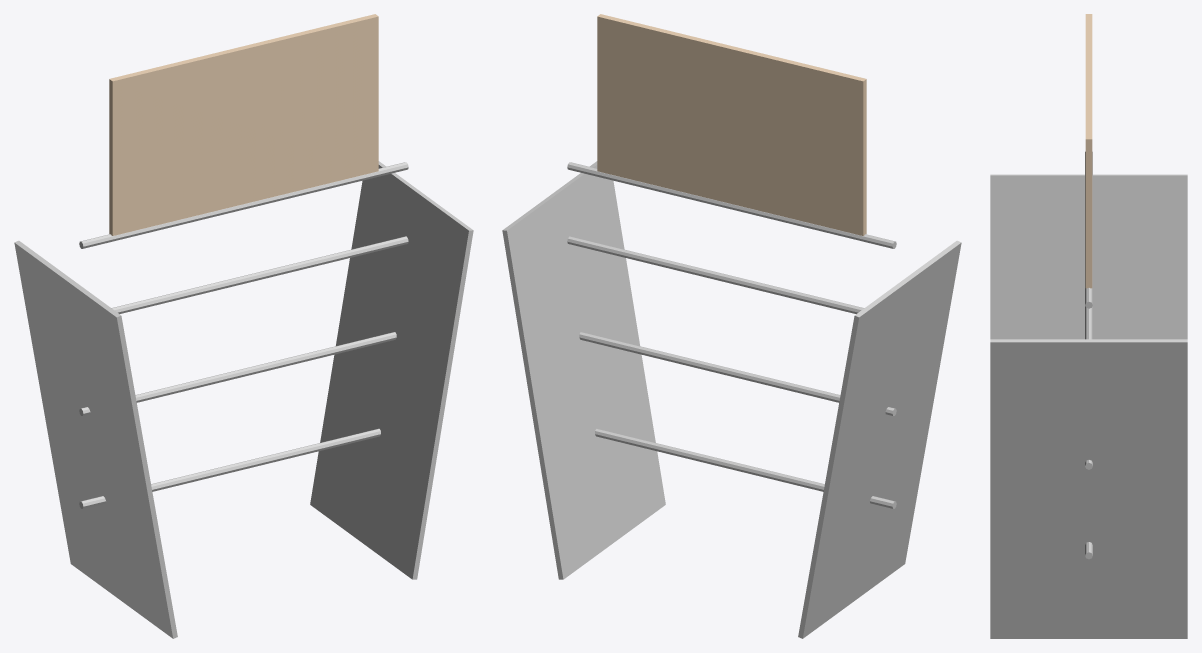
Rendered from drying-rack.glb.
3 views of the same model, side by side, from view 1: azimuth 30°, elevation 25°; view 2: azimuth 150°, elevation 25°; view 3: azimuth 270°, elevation 25° (orthographic). The views are drawn at different scales.
Visible parts, largest first — view 1: DryingRack_Towel, DryingRack_SidePanel.001, DryingRack_SidePanel, DryingRack_Bar.002, DryingRack_Bar.001, DryingRack_Bar, DryingRack_Bar.003; view 2: DryingRack_Towel, DryingRack_SidePanel.001, DryingRack_SidePanel, DryingRack_Bar.002, DryingRack_Bar.001, DryingRack_Bar, DryingRack_Bar.003; view 3: DryingRack_SidePanel.001, DryingRack_SidePanel, DryingRack_Towel, DryingRack_Bar.003.
Part boxes in pixels (bbox=[...]): DryingRack_Towel: bbox=[109, 14, 378, 235]; DryingRack_SidePanel.001: bbox=[310, 161, 473, 579]; DryingRack_SidePanel: bbox=[14, 240, 177, 638]; DryingRack_Bar.002: bbox=[111, 236, 408, 313]; DryingRack_Bar.001: bbox=[79, 332, 396, 415]; DryingRack_Bar: bbox=[79, 428, 380, 508]; DryingRack_Bar.003: bbox=[79, 162, 408, 248]; DryingRack_Towel: bbox=[597, 14, 866, 235]; DryingRack_SidePanel.001: bbox=[502, 161, 665, 579]; DryingRack_SidePanel: bbox=[798, 240, 961, 638]; DryingRack_Bar.002: bbox=[567, 236, 864, 313]; DryingRack_Bar.001: bbox=[579, 332, 896, 415]; DryingRack_Bar: bbox=[595, 428, 896, 508]; DryingRack_Bar.003: bbox=[567, 162, 896, 248]; DryingRack_SidePanel.001: bbox=[990, 339, 1187, 638]; DryingRack_SidePanel: bbox=[990, 174, 1187, 339]; DryingRack_Towel: bbox=[1085, 14, 1092, 288]; DryingRack_Bar.003: bbox=[1085, 151, 1092, 308].
Bounding box in the file's own units: 0.6034 × 0.8465 × 0.3.
